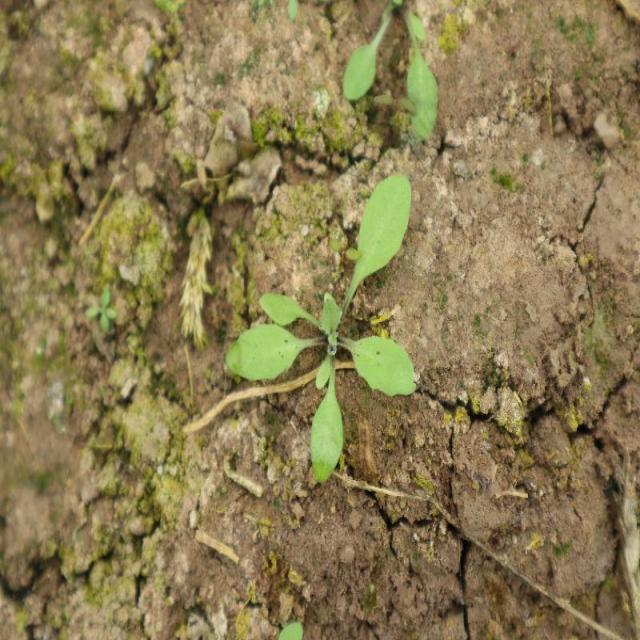crop: (230, 178, 416, 476)
